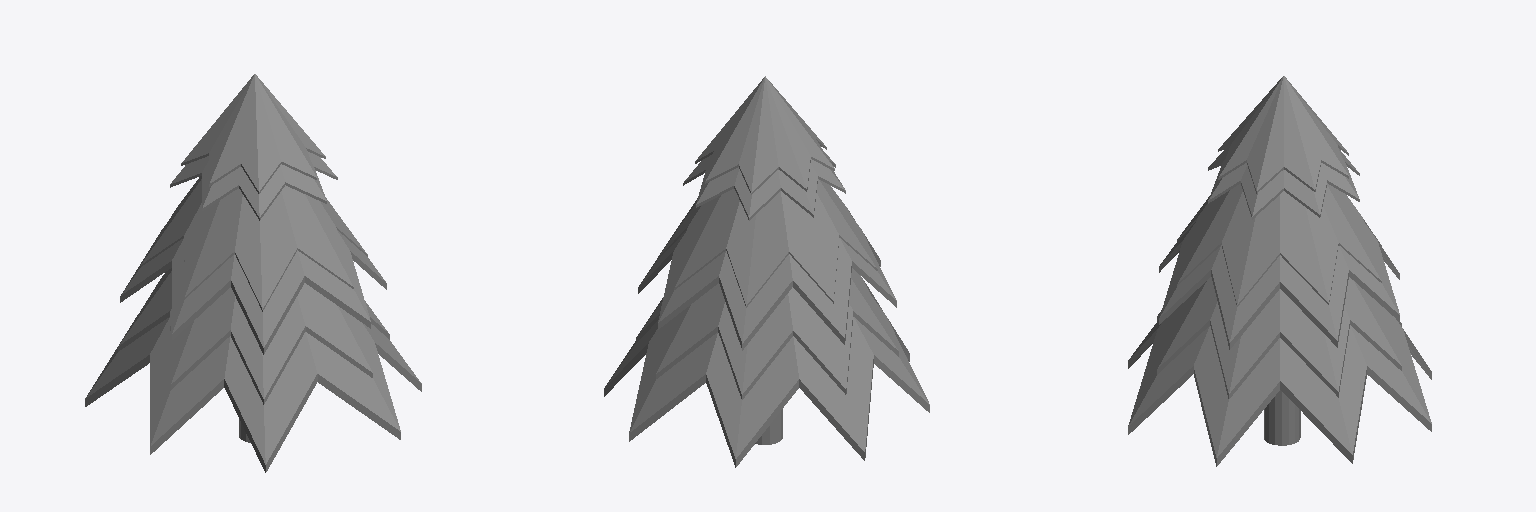
File: sapin.obj
3 views of the same model, side by side, from view 1: azimuth 30°, elevation 25°; view 2: azimuth 150°, elevation 25°; view 3: azimuth 270°, elevation 25° (orthographic).
Visible parts, largest first — view 1: sapin; view 2: sapin; view 3: sapin.
Boxes of the visible parts, box(x1,y1,x2,y2) form: sapin: box(85, 74, 421, 472); sapin: box(604, 76, 929, 467); sapin: box(1128, 76, 1431, 466).
Bounding box in the file's own units: 74.37 × 96 × 73.04.